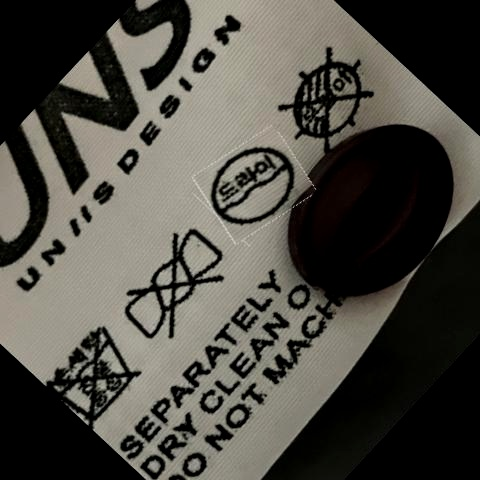DN_dry: (281, 54, 372, 147)
DN_wring: (123, 236, 226, 339)
dry_clean: (213, 143, 295, 229)
hand_wash: (54, 322, 139, 418)
